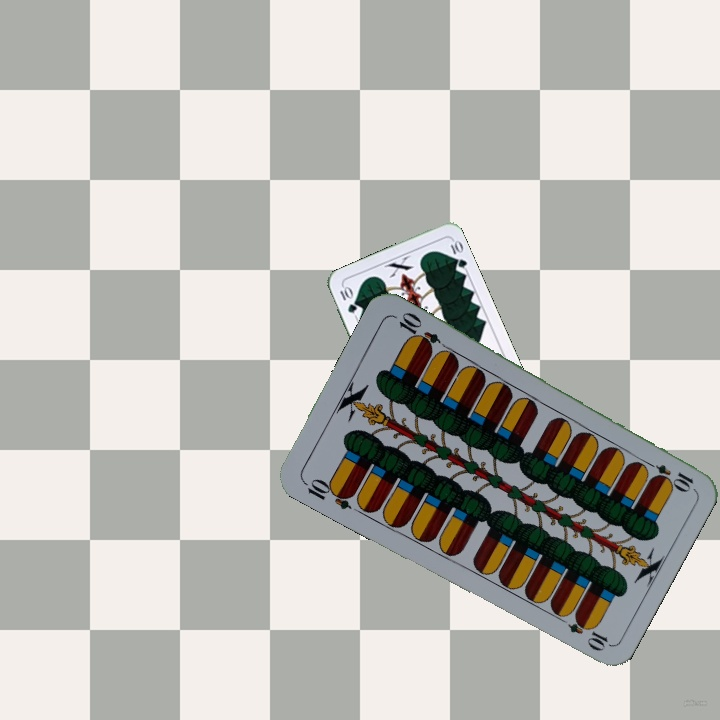E10: (299, 474, 357, 513), (640, 456, 696, 493)
G10: (336, 282, 359, 316)
